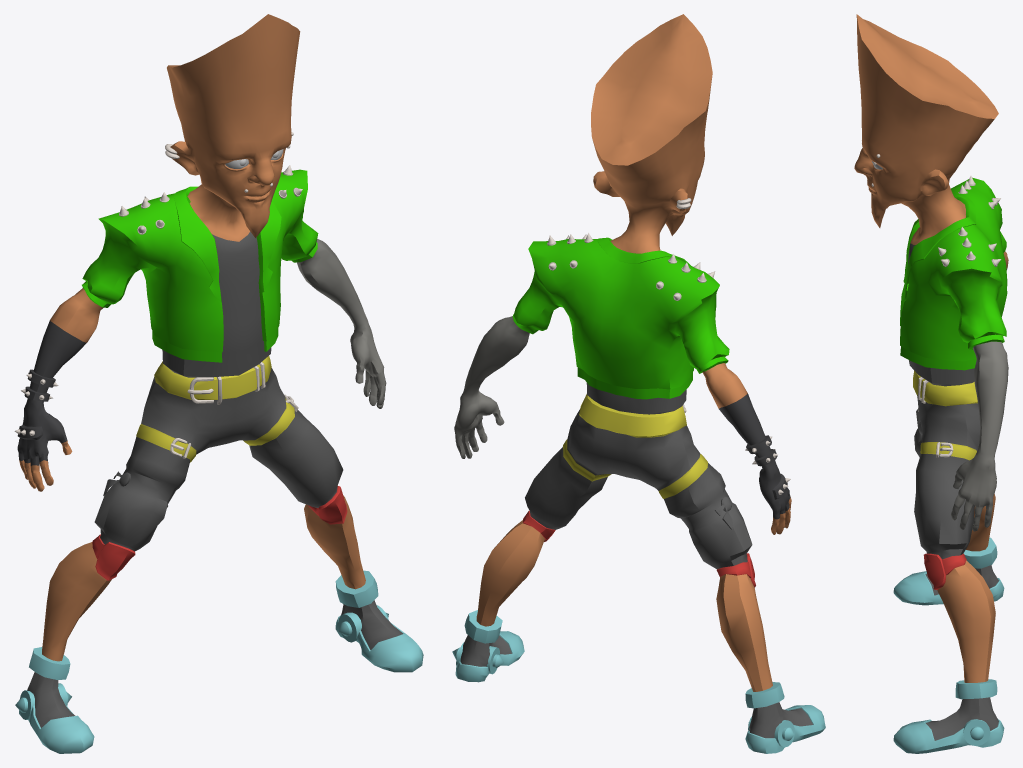
Rendered from for_texture.fbx.
3 renders of one model, left to right at view 1: azimuth 30°, elevation 25°; view 2: azimuth 150°, elevation 25°; view 3: azimuth 270°, elevation 25°, orthographic. The views are drawn at different scales.
Visible parts, largest first — view 1: Character; view 2: Character; view 3: Character.
Boxes of the visible parts, x1,y1,x2,y2 form: Character: (14,14,423,753); Character: (452,14,825,753); Character: (854,14,1008,753).
Bounding box in the file's own units: 99.99 × 181 × 38.51.
